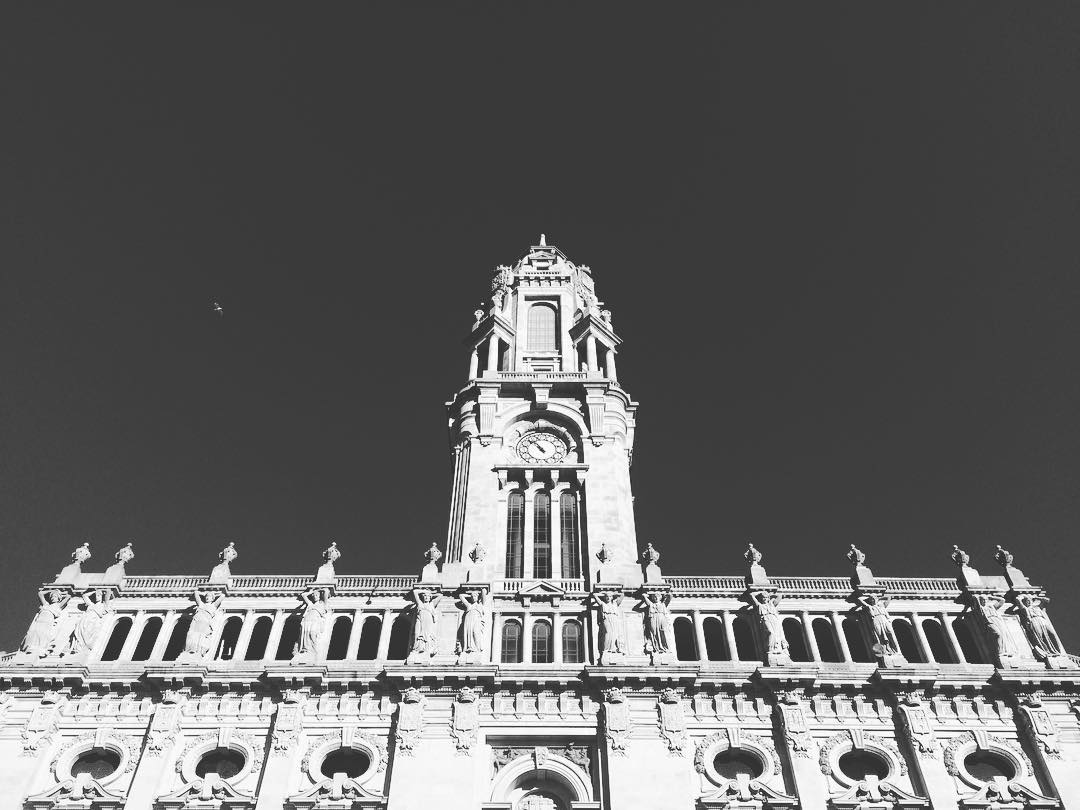camara: (0, 232, 1079, 809)
